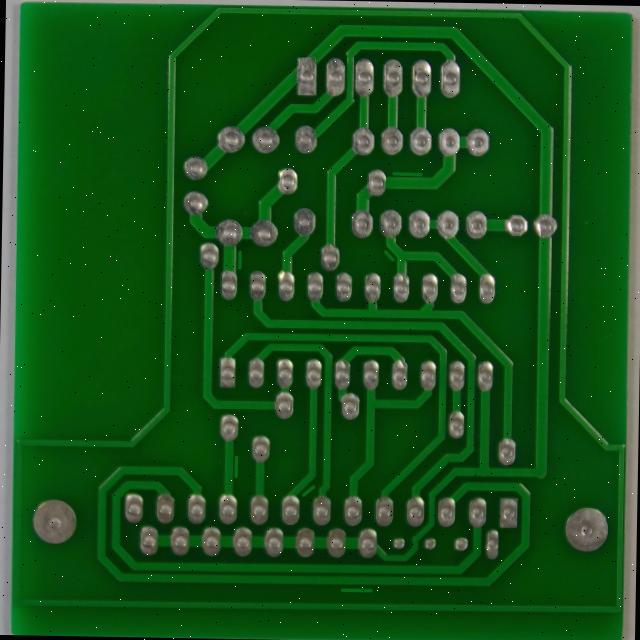spurious_copper: (336, 582, 377, 600), (389, 166, 426, 181), (227, 452, 245, 481), (298, 480, 322, 500), (232, 245, 247, 271), (380, 246, 397, 264)
